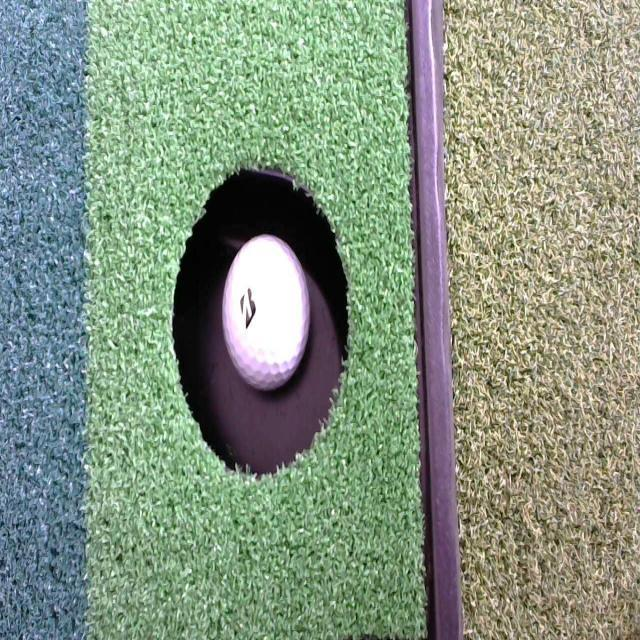GolfBall: (218, 218, 316, 400)
